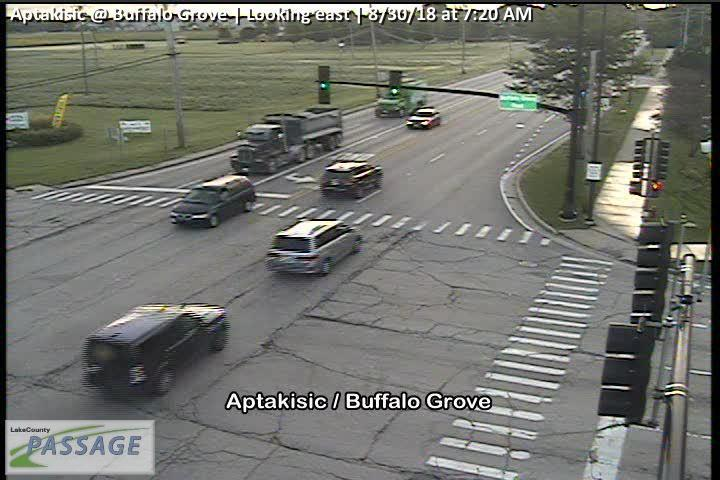SUV: (82, 302, 227, 394), (267, 218, 362, 275), (170, 174, 256, 228), (320, 163, 384, 199)
Sedan: (406, 108, 442, 129)
Truck: (230, 105, 343, 173), (374, 93, 425, 119)
